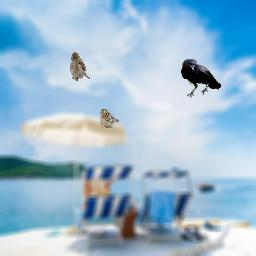Crow: (181, 59, 221, 98)
Sparrow: (70, 52, 90, 83), (100, 109, 119, 128)
